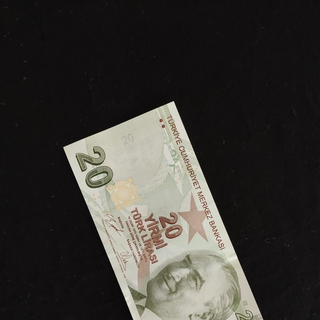20TLFront: (63, 100, 270, 320)
